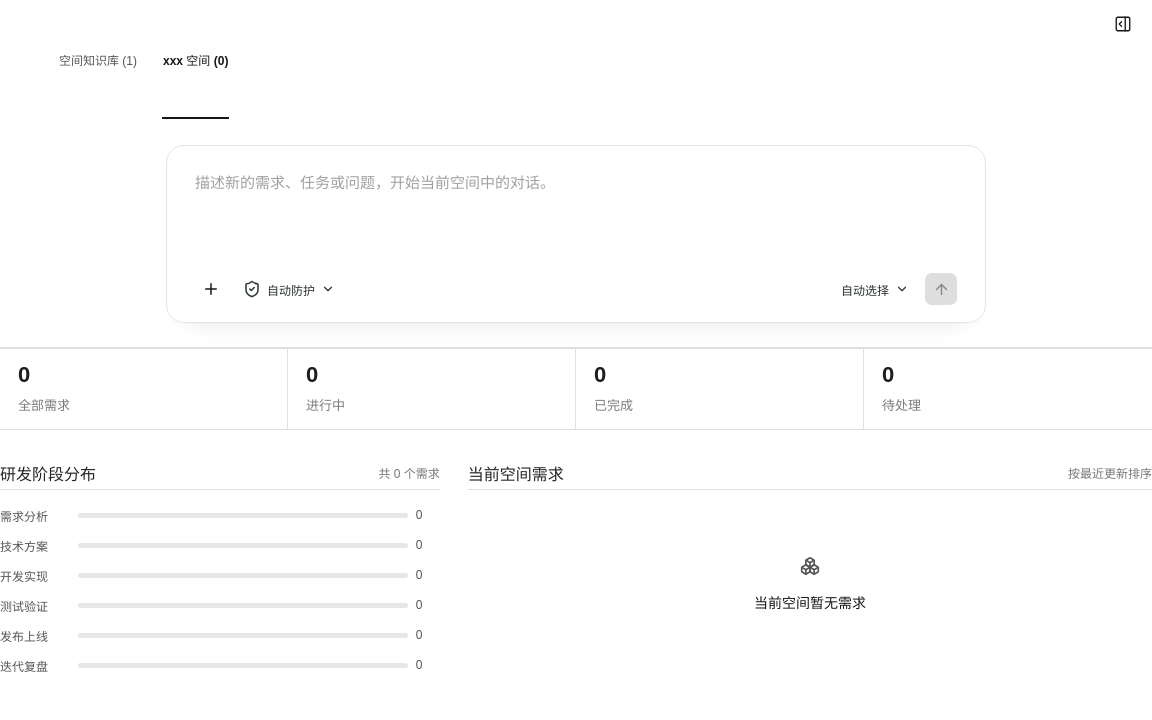
Test: SpaceDetailPage › shows source check/index details and refresh policy
Click the tab "空间知识库 (1)" at (98, 60), box [58,0,138,120]
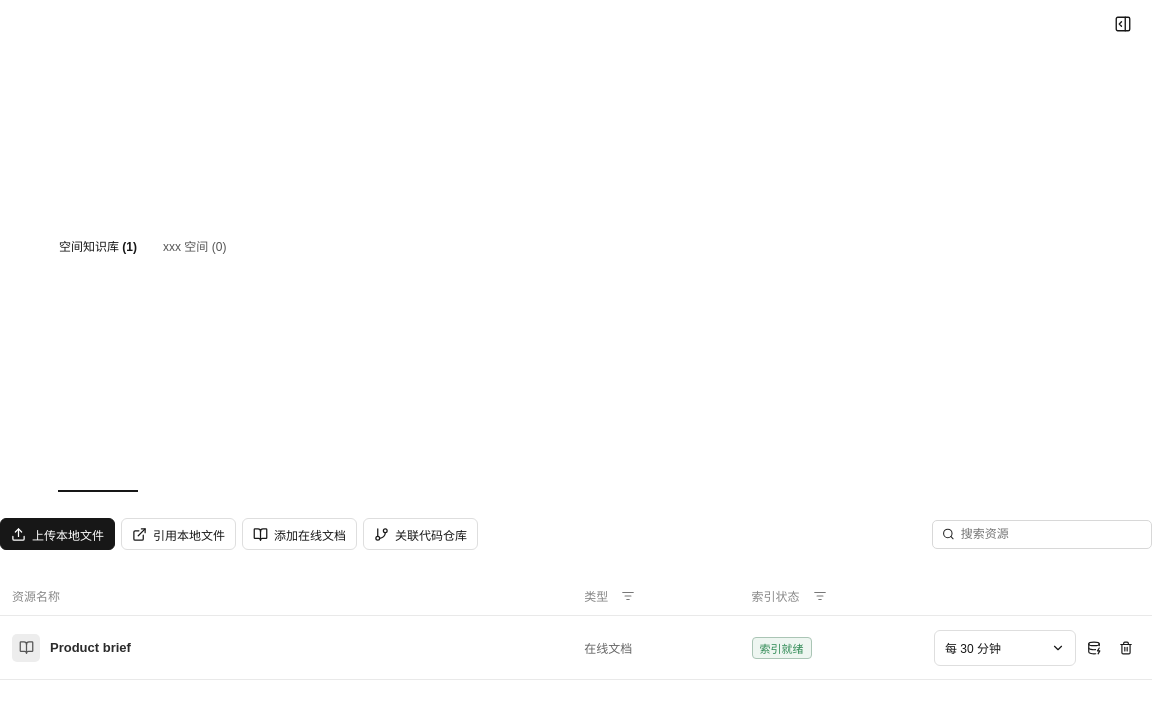
Now the element named "Product brief 的自动刷新周期" holds "30m", box [934,630,1076,666]
Click the button with aria-label "打开 Product brief" at (90, 648), box [12,634,574,662]
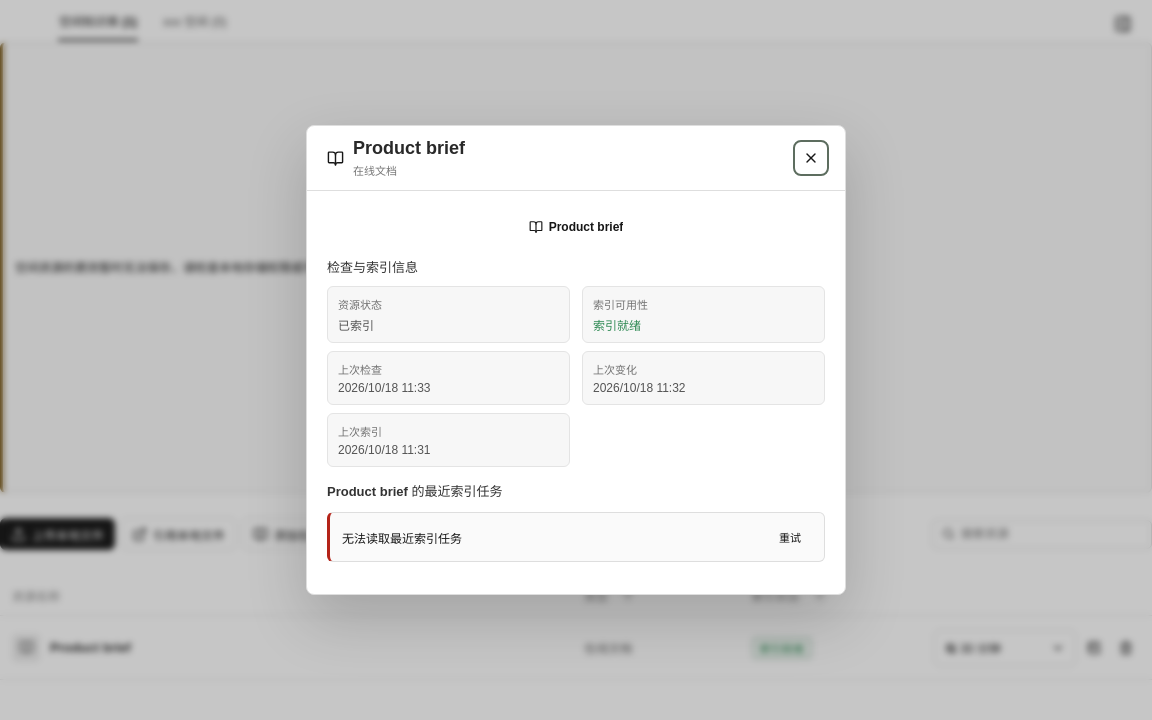
Now the text "上次检查" is shown, box [338,364,382,376]
Now the text "上次变化" is shown, box [593,364,637,376]
Now the text "上次索引" is shown, box [338,426,382,438]
